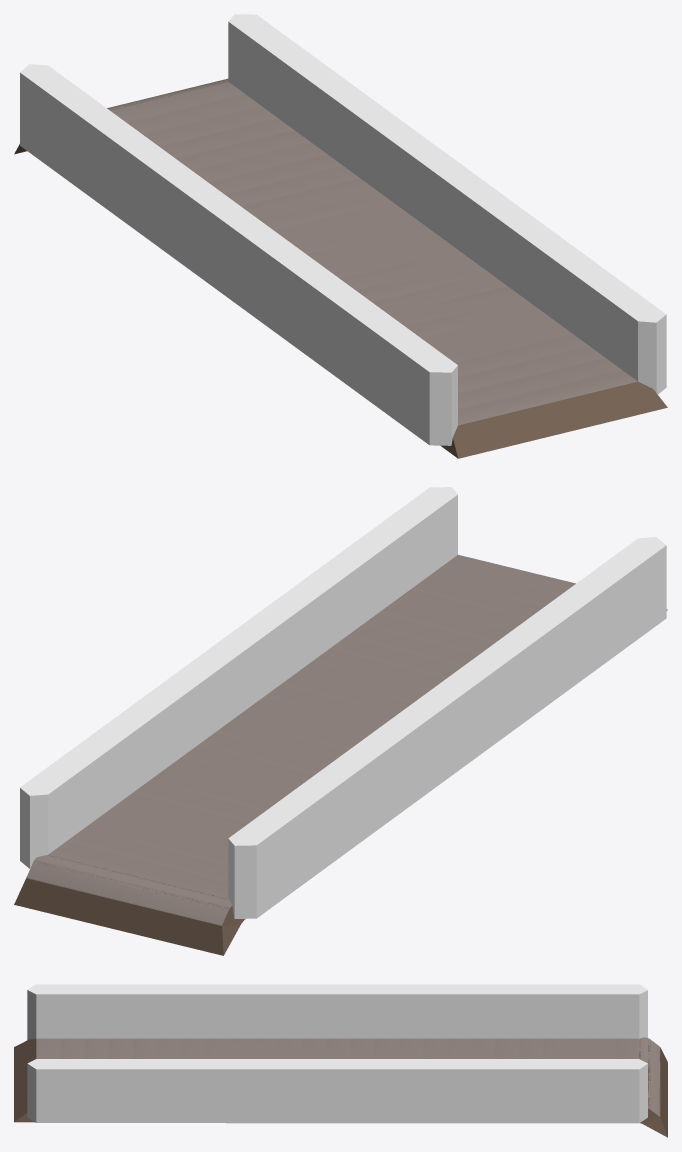
File: s_port_ppa_bridge.dae
The picture shows the model from 3 angles, top to bottom: view 1: azimuth 30°, elevation 25°; view 2: azimuth 150°, elevation 25°; view 3: azimuth 270°, elevation 25°; orthographic projection. The views are drawn at different scales.
Visible parts, largest first — view 1: Colmesh_s_port_ppa_bridge-1, s_port_ppa_bridge_L300, s_port_ppa_bridge_L150; view 2: Colmesh_s_port_ppa_bridge-1, s_port_ppa_bridge_L300, s_port_ppa_bridge_L150; view 3: Colmesh_s_port_ppa_bridge-1, s_port_ppa_bridge_L300, s_port_ppa_bridge_L150.
Boxes of the visible parts, <box> form: Colmesh_s_port_ppa_bridge-1: <box>14,14,667,458</box>; s_port_ppa_bridge_L300: <box>107,79,636,424</box>; s_port_ppa_bridge_L150: <box>107,79,637,425</box>; Colmesh_s_port_ppa_bridge-1: <box>14,487,667,955</box>; s_port_ppa_bridge_L300: <box>27,555,575,924</box>; s_port_ppa_bridge_L150: <box>26,555,575,925</box>; Colmesh_s_port_ppa_bridge-1: <box>14,984,667,1137</box>; s_port_ppa_bridge_L300: <box>37,1037,659,1115</box>; s_port_ppa_bridge_L150: <box>36,1038,660,1116</box>.
Bounding box in the file's own units: 4.11 × 13.37 × 1.66.
